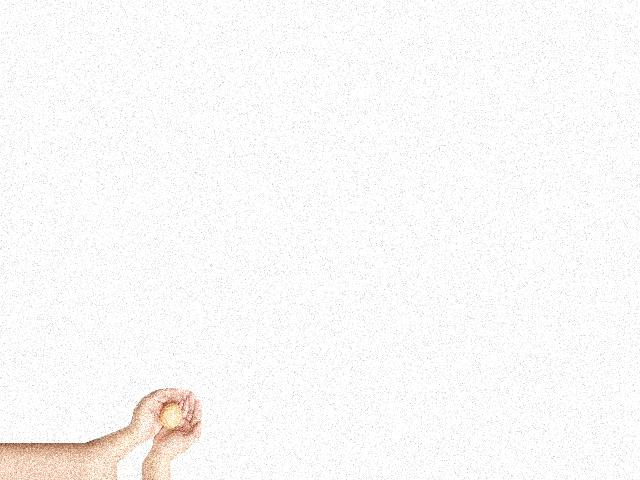egg: (159, 404, 180, 428)
